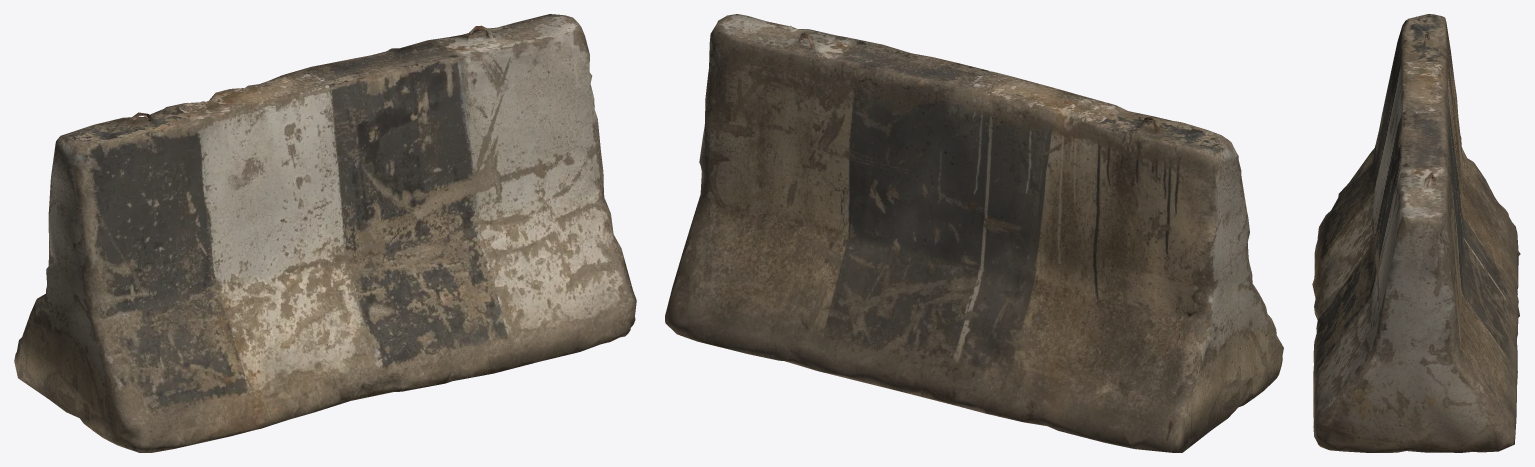
File: road_barrier.glb
3 views of the same model, side by side, from view 1: azimuth 30°, elevation 25°; view 2: azimuth 150°, elevation 25°; view 3: azimuth 270°, elevation 25° (orthographic). The views are drawn at different scales.
Visible parts, largest first — view 1: concrete_road_barrier; view 2: concrete_road_barrier; view 3: concrete_road_barrier.
Part boxes in pixels (left/top/right/bottom): concrete_road_barrier: left=14, top=14, right=636, bottom=452; concrete_road_barrier: left=665, top=14, right=1283, bottom=452; concrete_road_barrier: left=1312, top=14, right=1520, bottom=452.
Size of the model in its own units: 1.54 by 0.8304 by 0.6387.
Materials: 1 (1 with a texture image).
